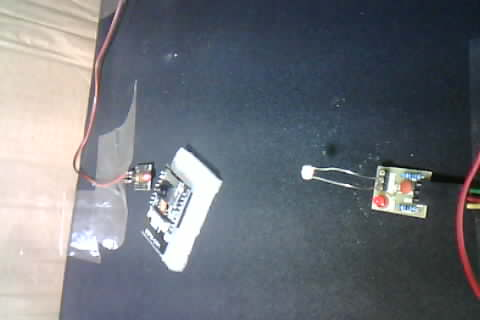esp32: (141, 150, 214, 269)
